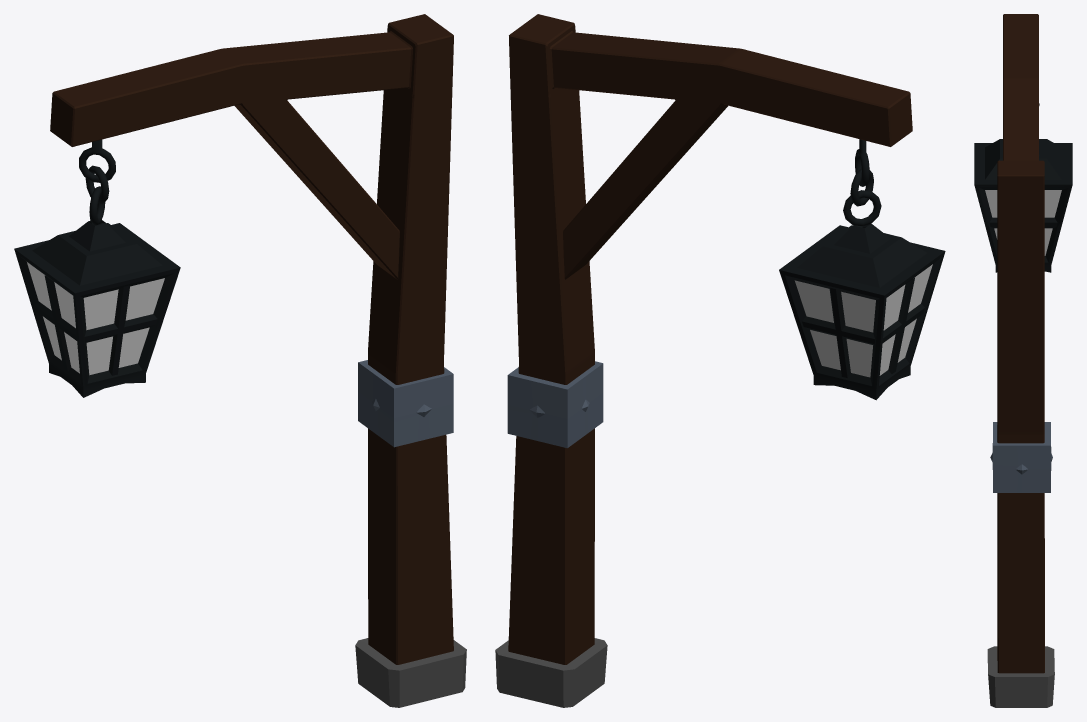
File: Lampara_con_soporte.fbx
The picture shows the model from 3 angles, left to right: view 1: azimuth 30°, elevation 25°; view 2: azimuth 150°, elevation 25°; view 3: azimuth 270°, elevation 25°; orthographic projection. The views are drawn at different scales.
Visible parts, largest first — view 1: Cube.001; view 2: Cube.001; view 3: Cube.001.
Boxes of the visible parts, bbox=[...] form: Cube.001: bbox=[14, 14, 466, 707]; Cube.001: bbox=[495, 14, 945, 707]; Cube.001: bbox=[974, 14, 1072, 707].
Bounding box in the file's own units: 130 × 209 × 34.06.
